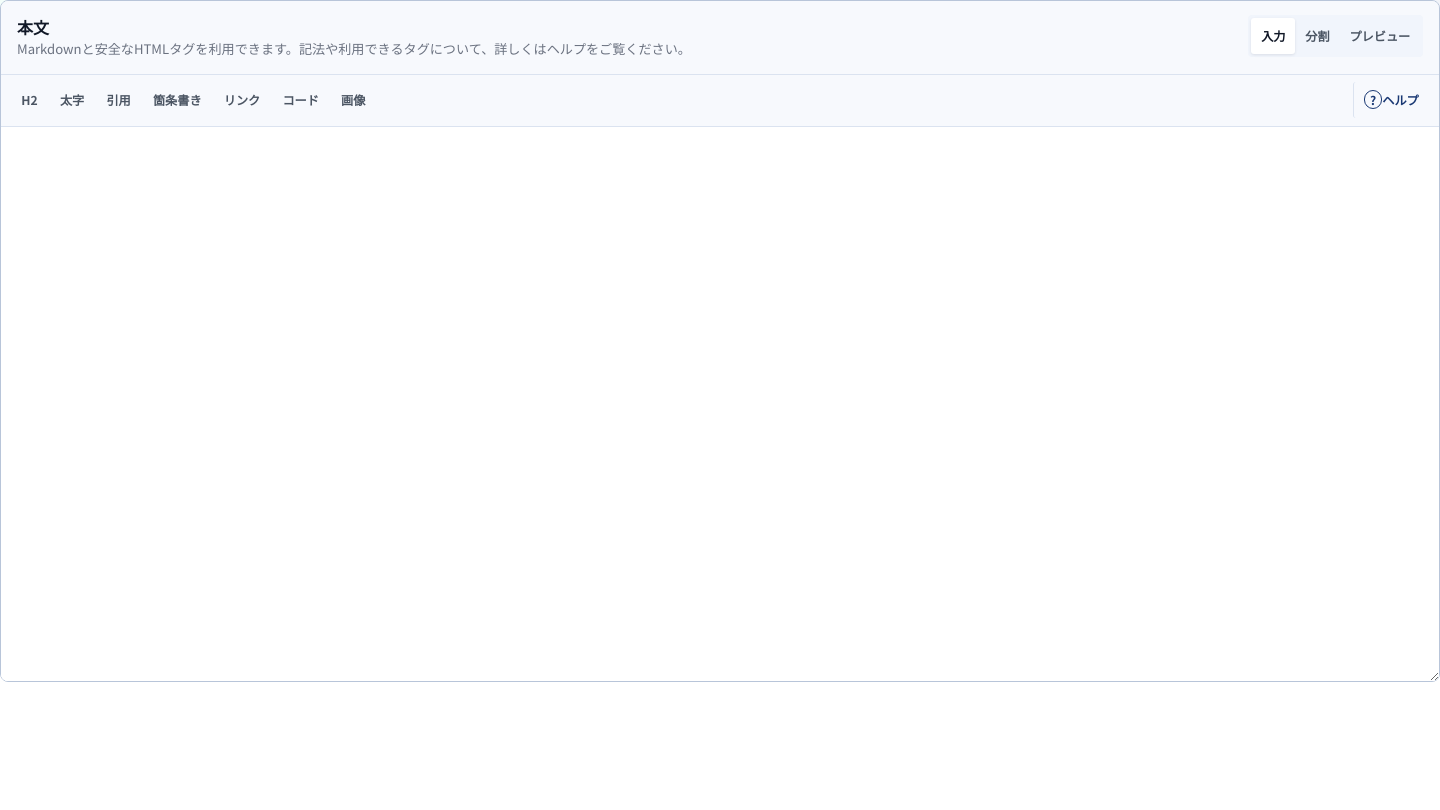
Test: ArticleEditor › shows Markdown and allowed HTML help from the toolbar
Click the button "? ヘルプ" at (1391,100), box [1353,82,1429,118]
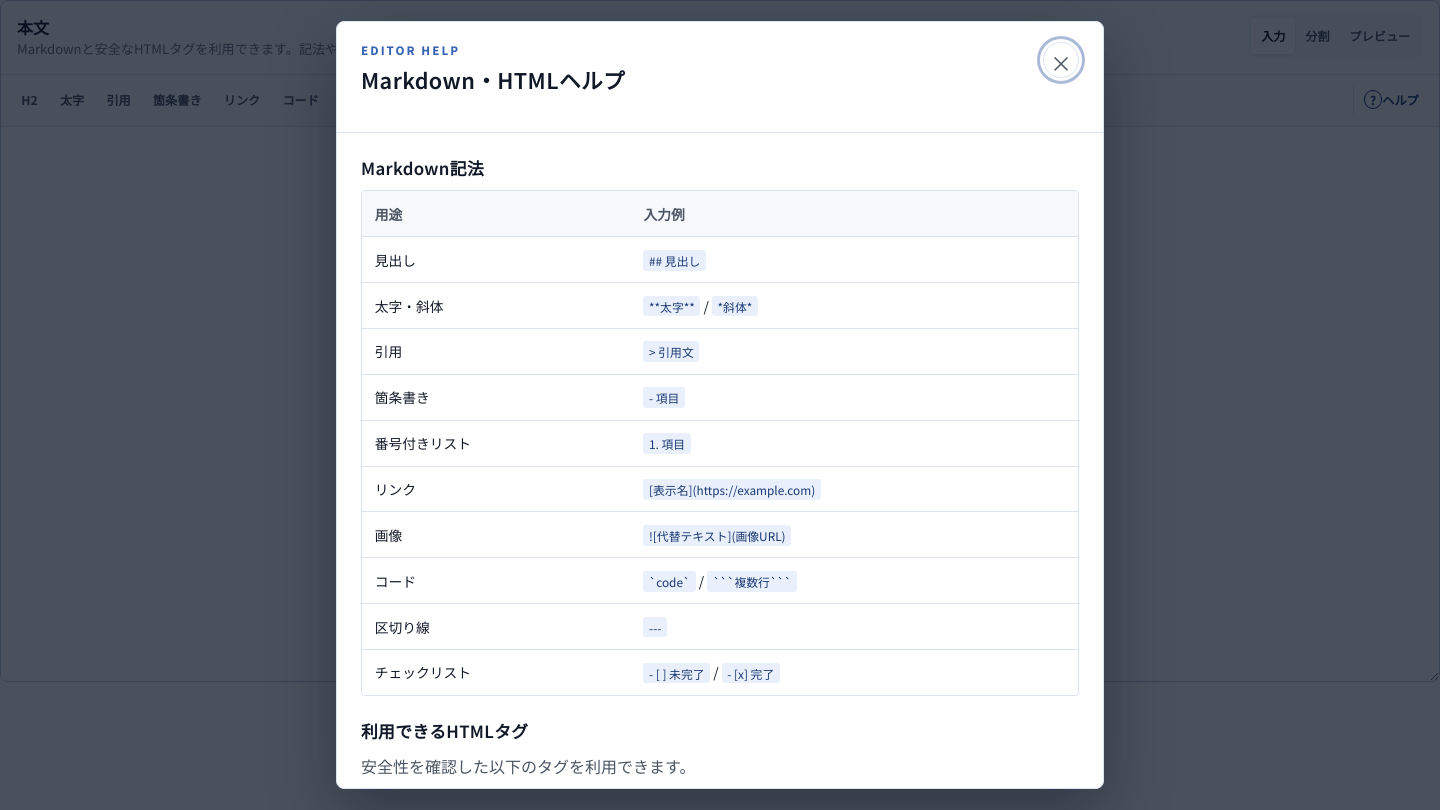
Now the dialog "Markdown・HTMLヘルプ" shows "## 見出し", box [649,252,700,269]
Click the button named "ヘルプを閉じる" at (1061,60), box [1043,42,1079,78]
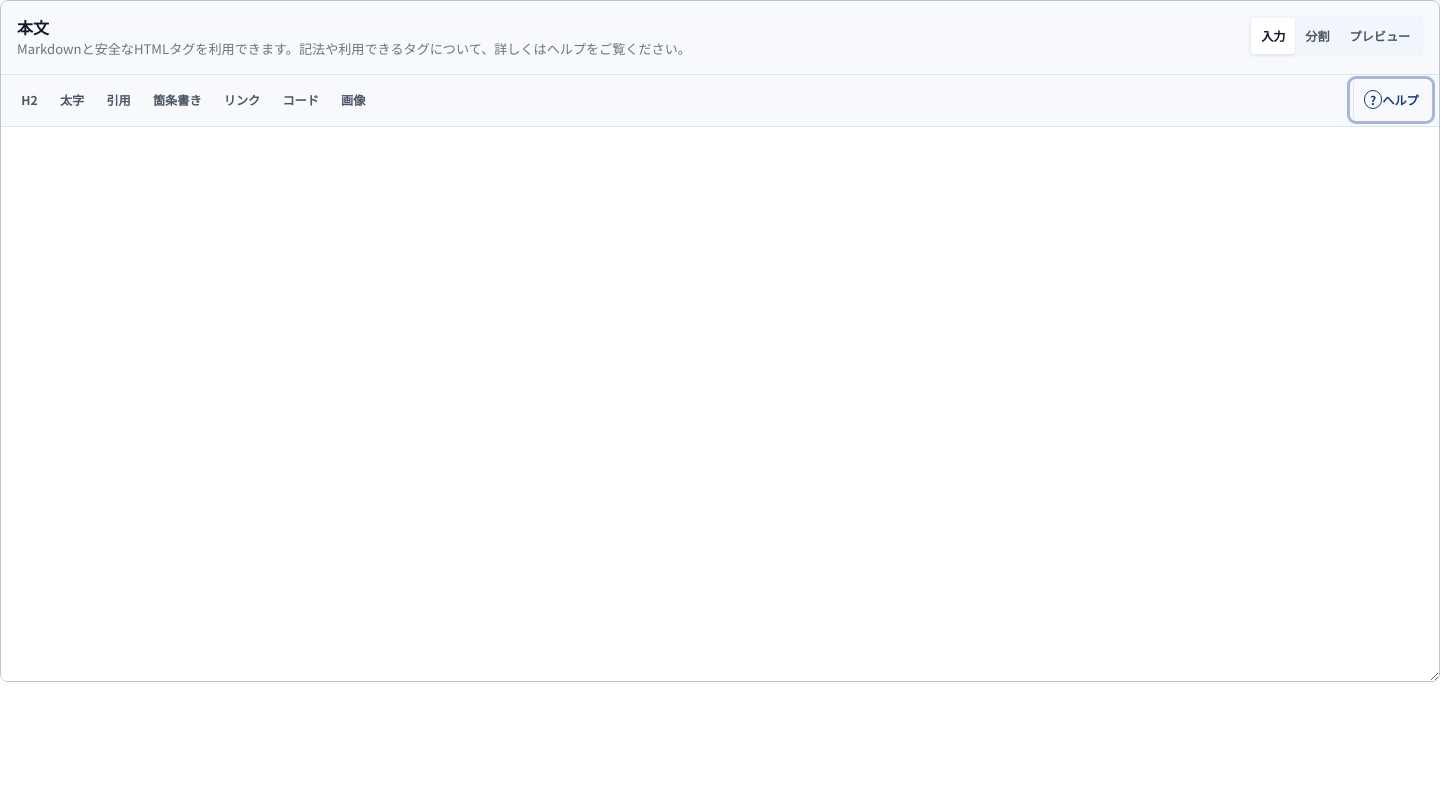
Now the dialog is gone
